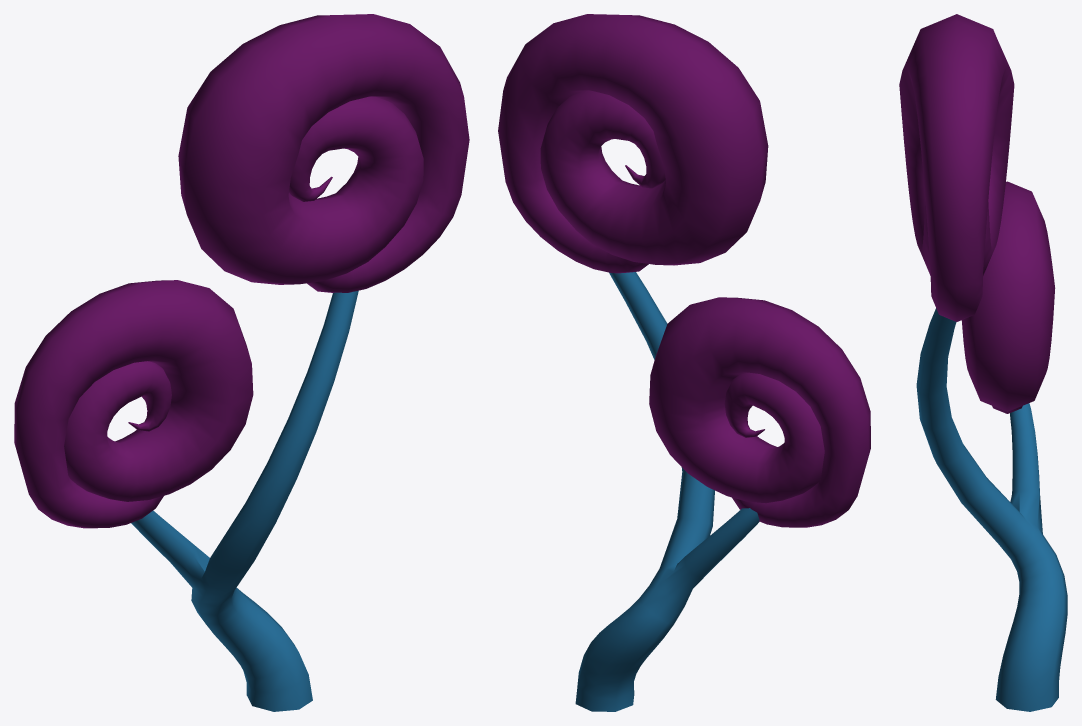
Rendered from tree_swirl_1.glb.
3 renders of one model, left to right at view 1: azimuth 30°, elevation 25°; view 2: azimuth 150°, elevation 25°; view 3: azimuth 270°, elevation 25°, orthographic. The views are drawn at different scales.
Visible parts, largest first — view 1: Tree_Swirl_1; view 2: Tree_Swirl_1; view 3: Tree_Swirl_1.
Part boxes in pixels (<box>): Tree_Swirl_1: <box>14,14,469,711</box>; Tree_Swirl_1: <box>498,14,870,711</box>; Tree_Swirl_1: <box>899,14,1067,711</box>.
Bounding box in the file's own units: 4.61 × 7.35 × 1.68.
1 material, 1 textured.
